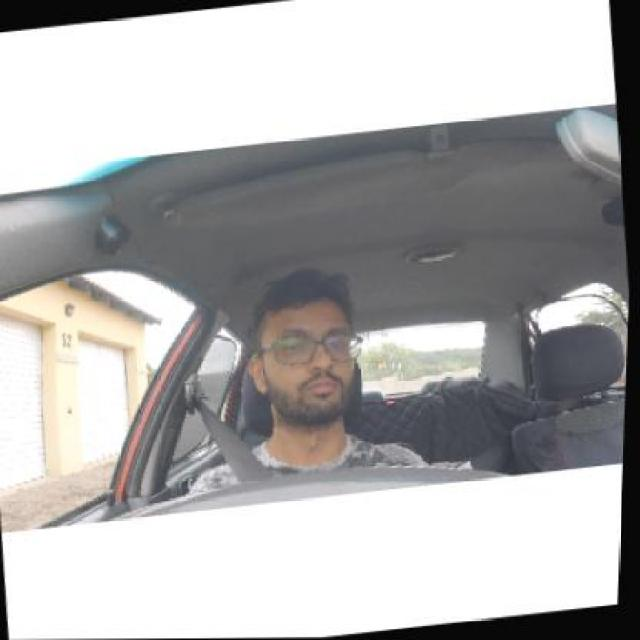person: (251, 288, 358, 416)
